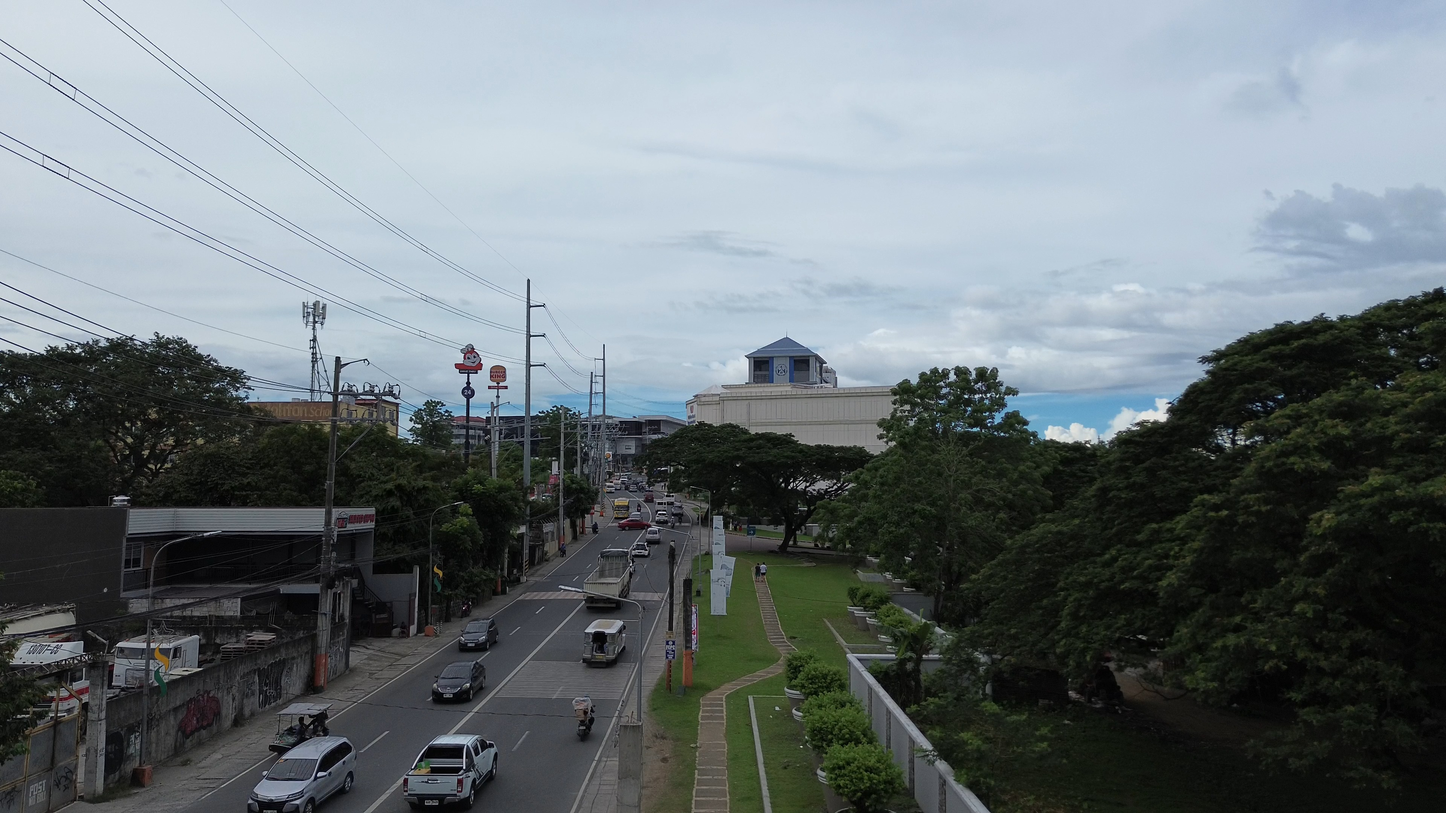car: (617, 517, 650, 530), (644, 527, 660, 544), (654, 509, 670, 525)
motorcycle: (460, 600, 472, 617)
vehicle: (248, 736, 355, 813), (401, 734, 497, 809), (11, 636, 89, 716), (111, 633, 198, 688), (268, 702, 331, 754), (583, 548, 631, 607), (432, 659, 485, 701), (583, 619, 625, 664), (457, 618, 499, 651), (573, 696, 595, 739), (617, 516, 650, 530), (613, 498, 631, 519), (630, 540, 650, 557), (654, 509, 671, 525), (670, 502, 683, 518), (643, 491, 654, 502), (605, 484, 616, 493)
